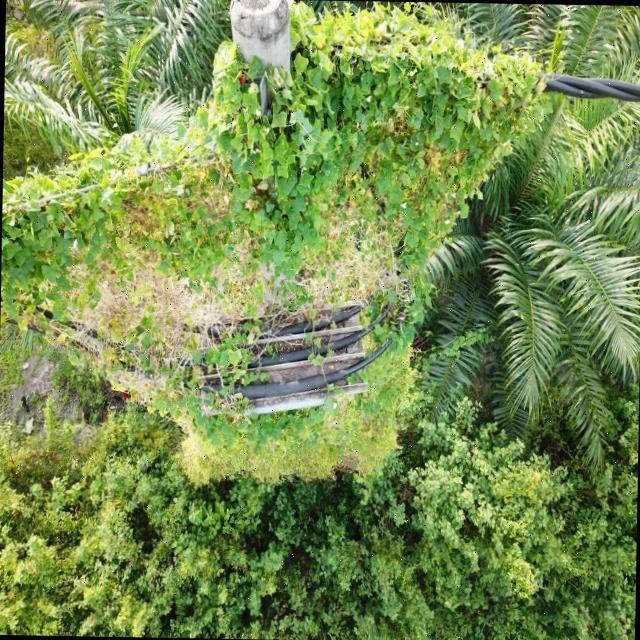critical vegetation: (32, 23, 538, 380)
